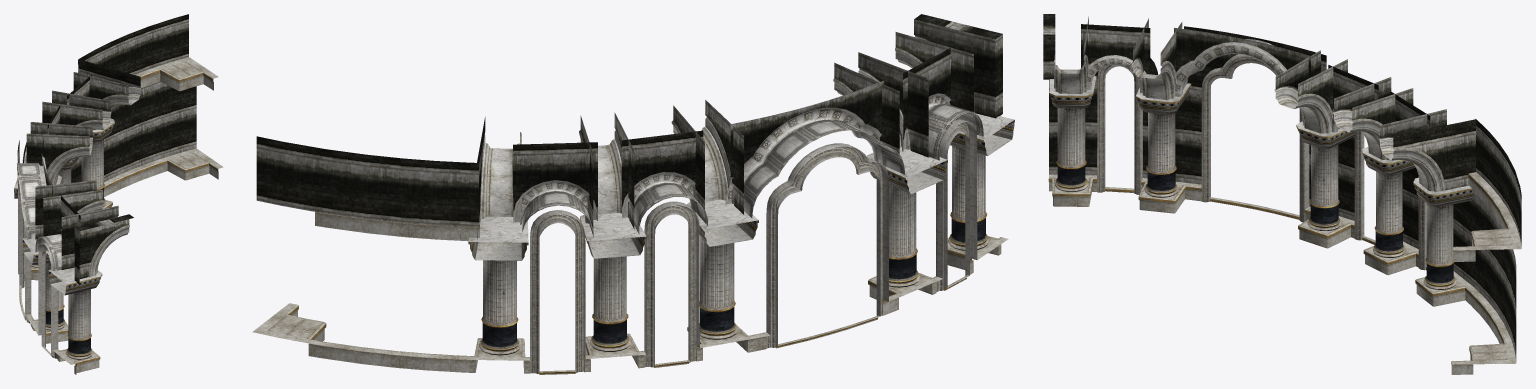
The model's file is Hallway_LeftSide.FBX.
3 views of the same model, side by side, from view 1: azimuth 30°, elevation 25°; view 2: azimuth 150°, elevation 25°; view 3: azimuth 270°, elevation 25° (orthographic). The views are drawn at different scales.
Visible parts, largest first — view 1: SM_L_Hallway_LeftSide; view 2: SM_L_Hallway_LeftSide; view 3: SM_L_Hallway_LeftSide.
Boxes of the visible parts, x1=… form: SM_L_Hallway_LeftSide: x1=14, y1=14, x2=223, y2=374; SM_L_Hallway_LeftSide: x1=252, y1=14, x2=1014, y2=374; SM_L_Hallway_LeftSide: x1=1043, y1=14, x2=1521, y2=374.
Size of what is drawn, in the model's own units: 2353 by 2473 by 1026.
